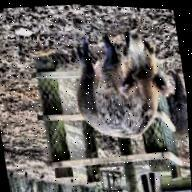boar: (60, 18, 175, 147)
